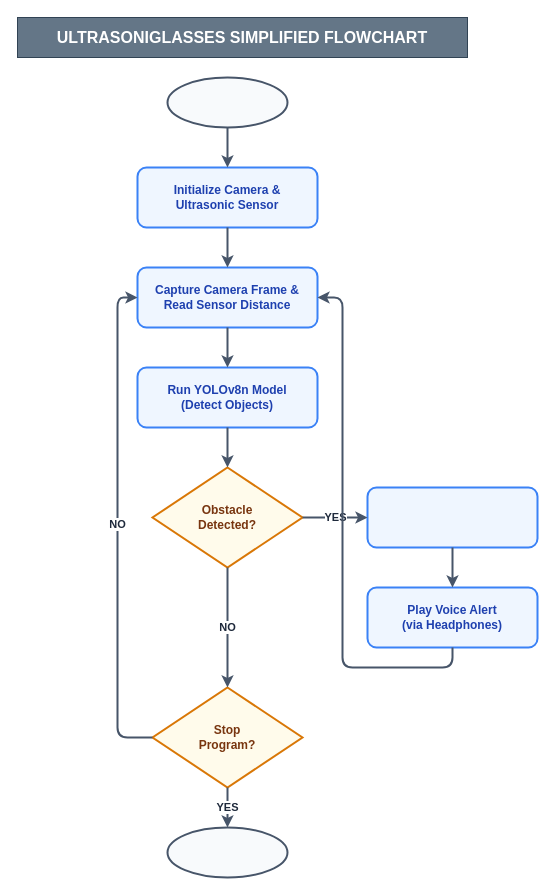
Image size: 556x896. Some labels were removed from this diagram. The shapes that lost their labels are listed below. From the top down, each one's centre as x and y in pixels, then its label:
At (x=227, y=102): "START".
At (x=452, y=517): "Calculate Direction (Left / Right / Ahead)".
At (x=227, y=852): "END".
